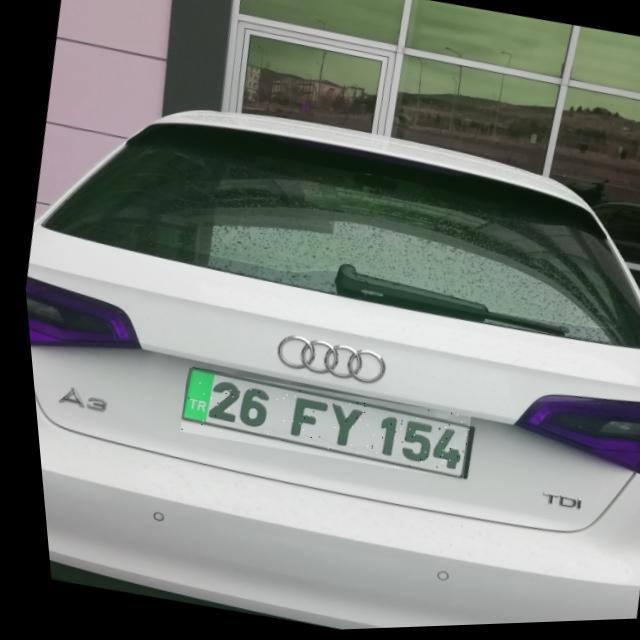license_plate: (168, 360, 469, 492)
